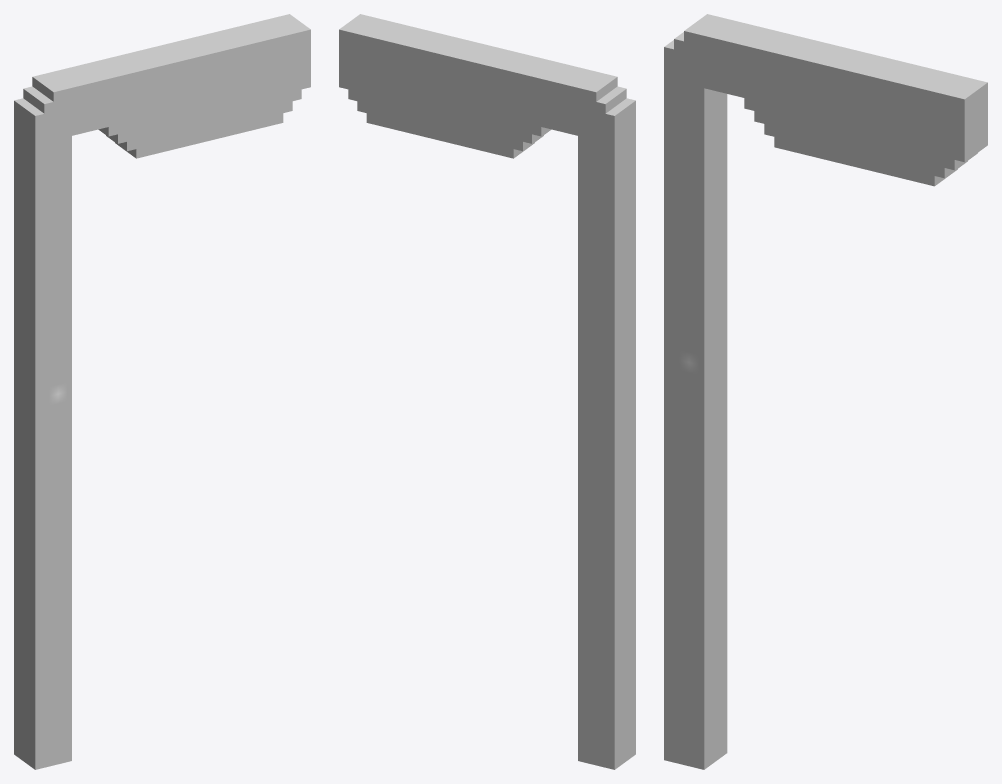
File: LeftLamp.fbx
3 views of the same model, side by side, from view 1: azimuth 30°, elevation 25°; view 2: azimuth 150°, elevation 25°; view 3: azimuth 330°, elevation 25° (orthographic). The views are drawn at different scales.
Visible parts, largest first — view 1: LeftLamp; view 2: LeftLamp; view 3: LeftLamp.
Part boxes in pixels (box(x1,y1,x2,y2)): LeftLamp: box(14, 14, 310, 769); LeftLamp: box(339, 14, 635, 769); LeftLamp: box(664, 14, 987, 769).
Bounding box in the file's own units: 30 × 70 × 4.
1 material, 1 textured.
